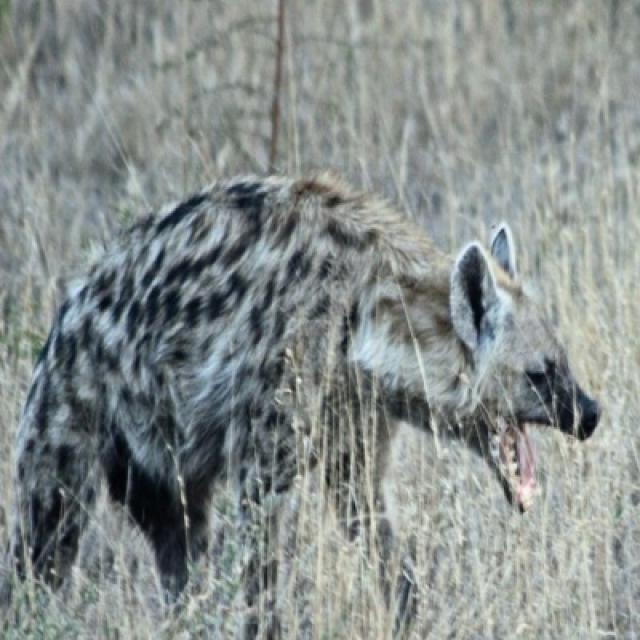hyena: (5, 170, 602, 611)
